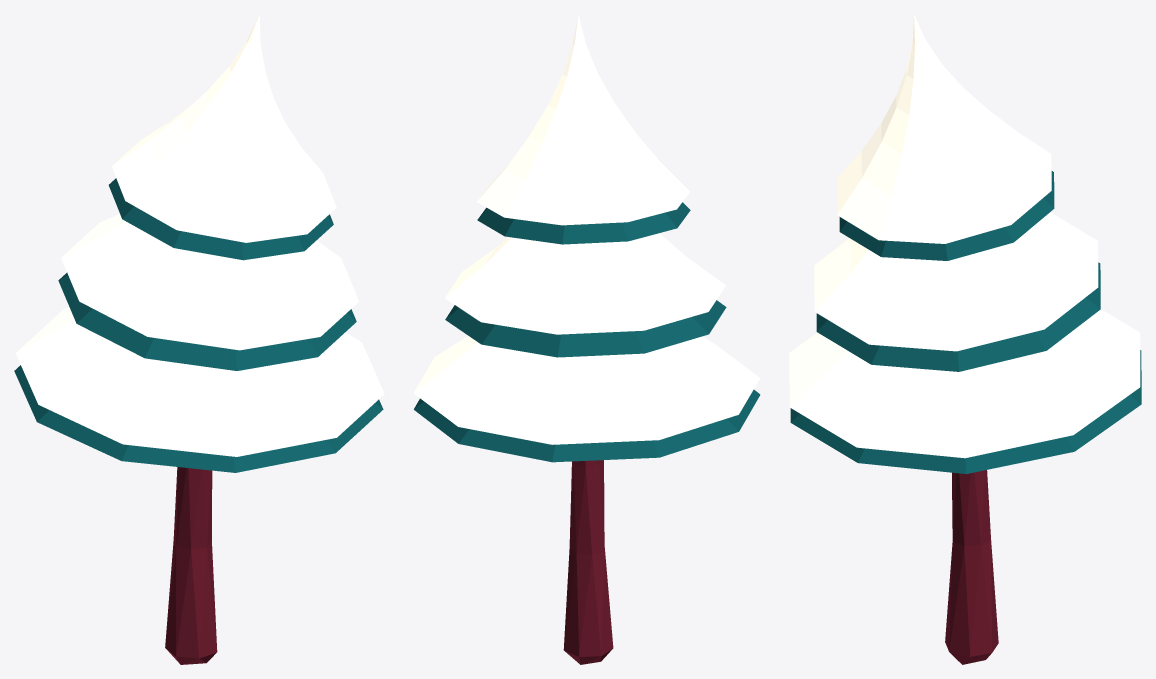
Rendered from TreeAsset2.fbx.
3 renders of one model, left to right at view 1: azimuth 30°, elevation 25°; view 2: azimuth 150°, elevation 25°; view 3: azimuth 270°, elevation 25°, orthographic. The views are drawn at different scales.
Parts seen in each view (by area): view 1: Tree2; view 2: Tree2; view 3: Tree2.
Boxes of the visible parts, x1,y1,x2,y2 form: Tree2: [14, 15, 384, 664]; Tree2: [413, 14, 760, 664]; Tree2: [789, 14, 1141, 664].
Bounding box in the file's own units: 684 × 1326 × 636.
